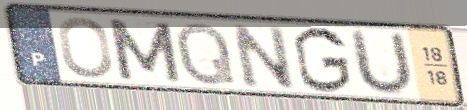G: (290, 25, 354, 96)
M: (104, 16, 185, 84)
N: (228, 21, 299, 90)
O: (55, 15, 116, 81)
Q: (174, 20, 239, 88)
U: (349, 27, 416, 97)
